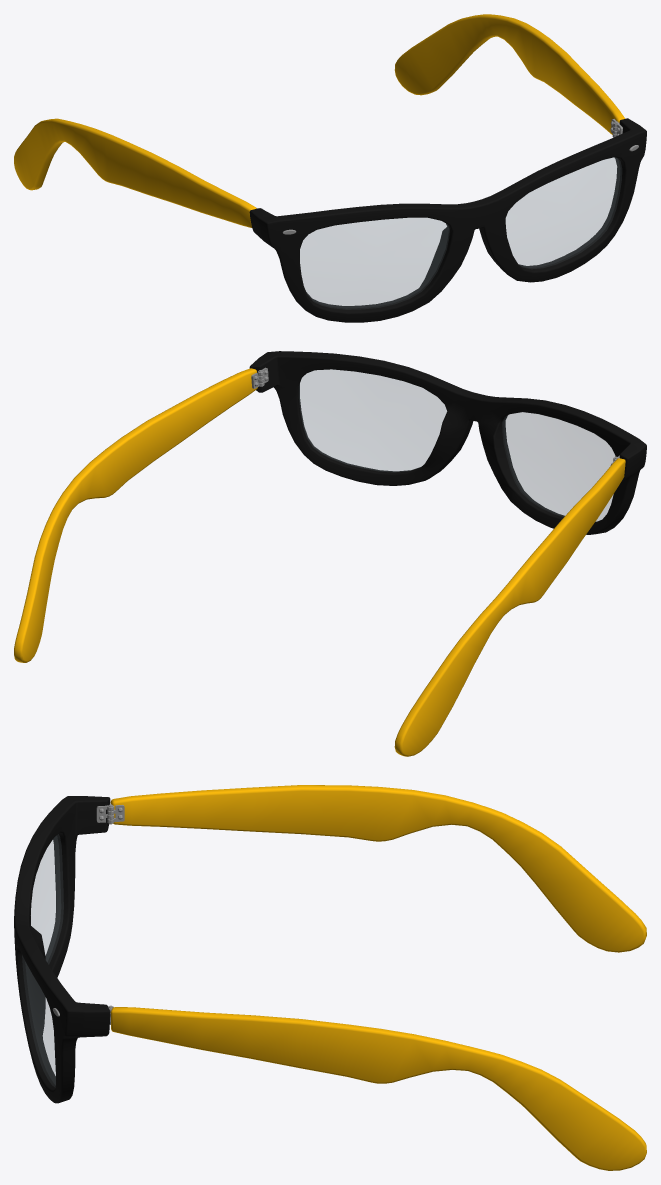
File: read_glasses.fbx
3 renders of one model, top to bottom at view 1: azimuth 30°, elevation 25°; view 2: azimuth 150°, elevation 25°; view 3: azimuth 270°, elevation 25°, orthographic. The views are drawn at different scales.
Parts seen in each view (by area): view 1: Glass, stanghette_gialle, Glasses; view 2: stanghette_gialle, Glass, Glasses; view 3: stanghette_gialle, Glasses, Glass, metal.
Boxes of the visible parts, x1,y1,x2,y2 form: Glass: (300,157,621,309); stanghette_gialle: (14,14,625,227); Glasses: (249,118,646,322); stanghette_gialle: (14,368,625,756); Glass: (299,369,614,521); Glasses: (249,351,646,534); stanghette_gialle: (110,785,646,1170); Glasses: (14,796,110,1103); Glass: (22,834,63,1086); metal: (52,804,124,1024).
Size of the model in its own units: 15.43 by 4.66 by 16.52.
